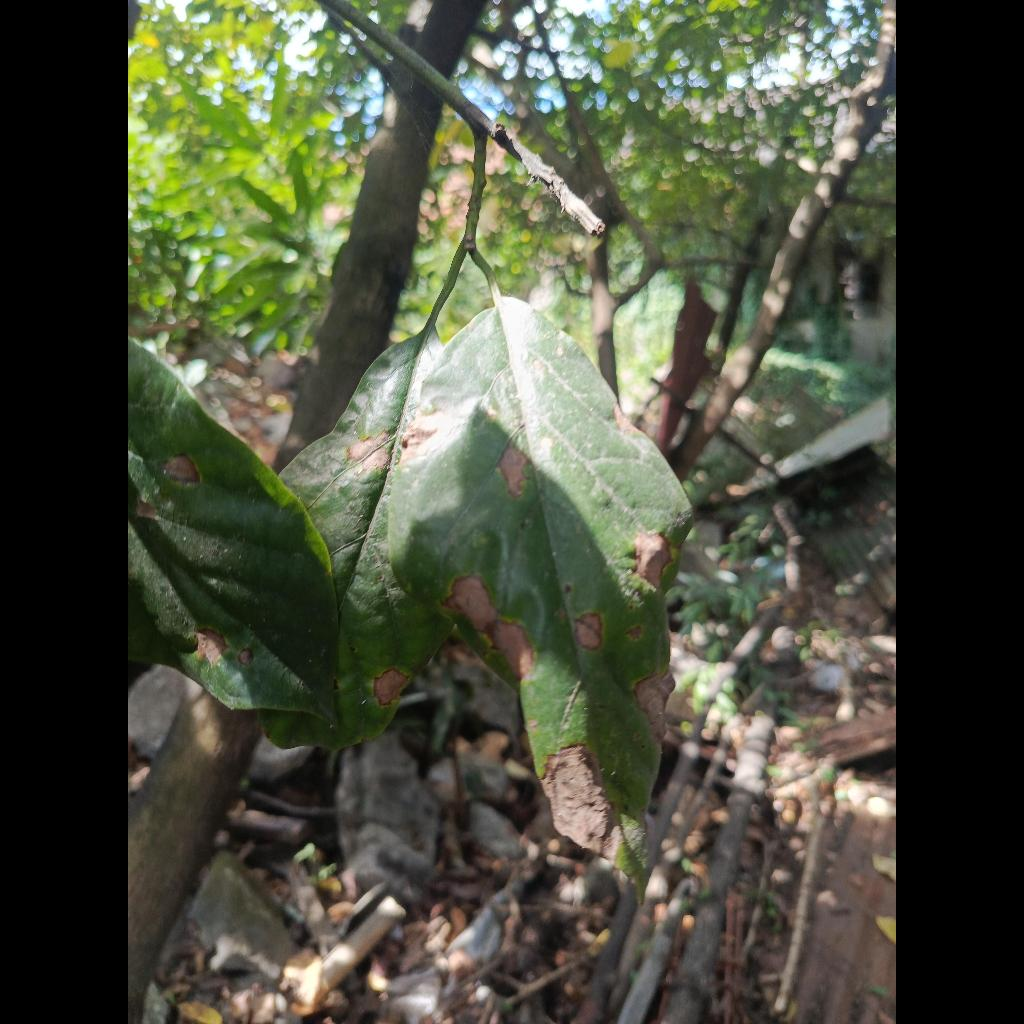Anthracnose: (390, 282, 691, 891)
